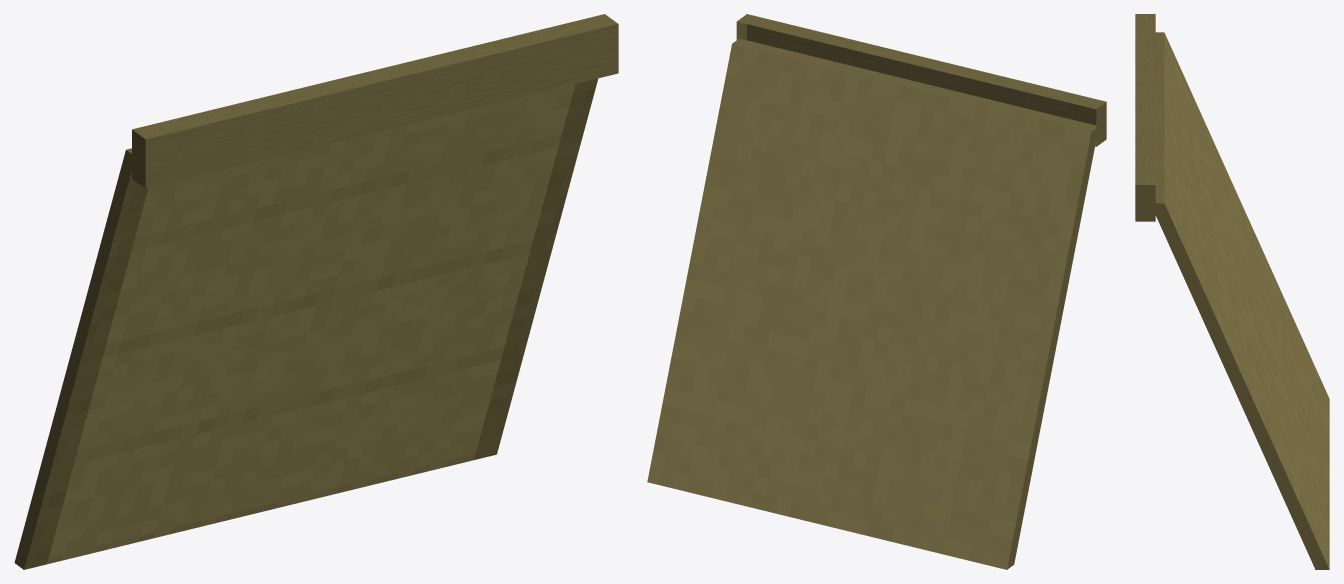
File: roof-95.obj
3 renders of one model, left to right at view 1: azimuth 30°, elevation 25°; view 2: azimuth 150°, elevation 25°; view 3: azimuth 270°, elevation 25°, orthographic. The views are drawn at different scales.
Size of the model in its own units: 1 by 1.05 by 0.4804.
1 material, 1 textured.
